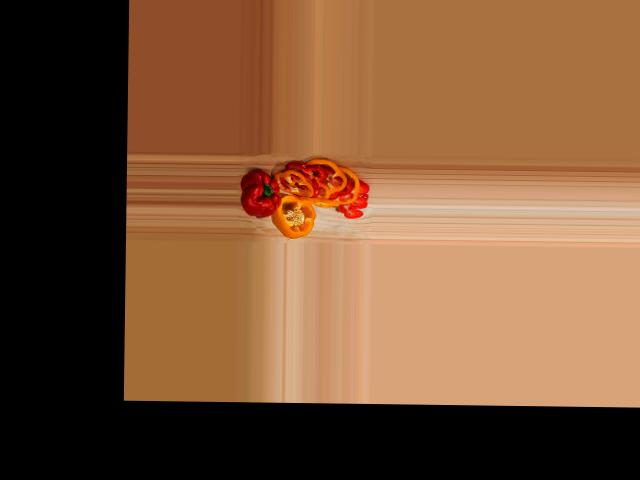bell_pepper: (273, 195, 318, 240)
